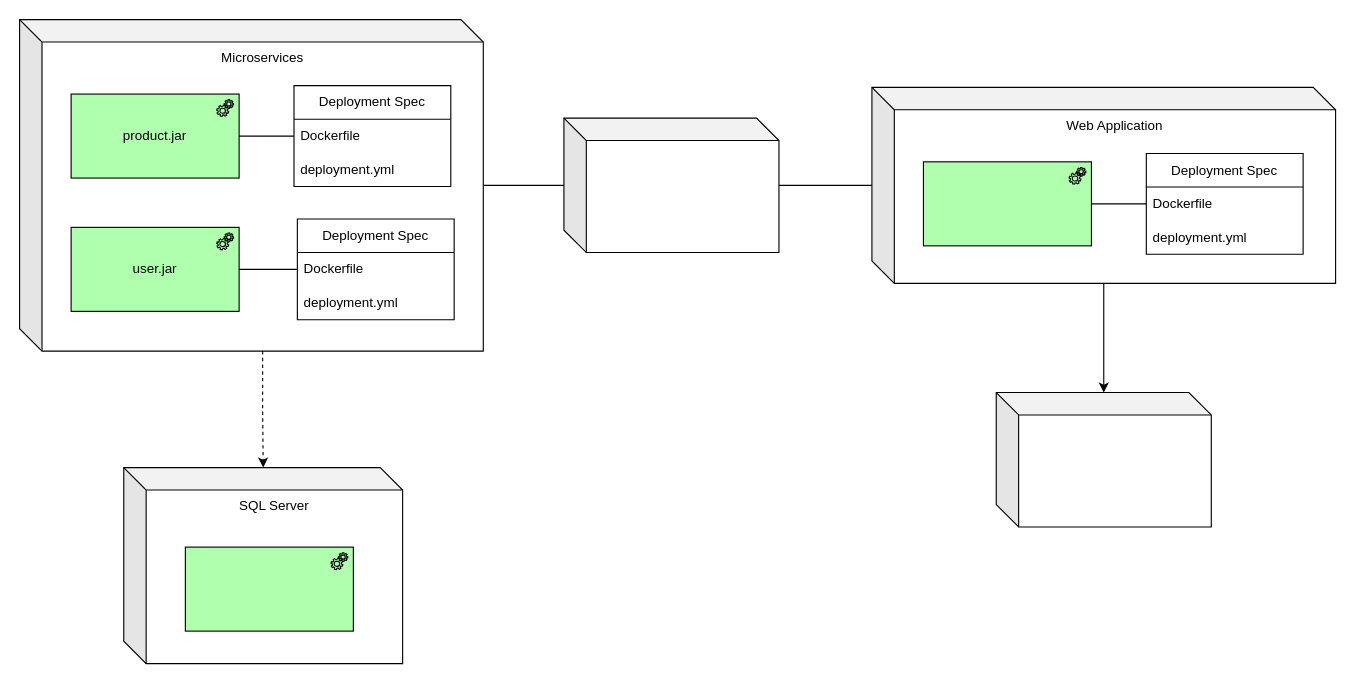
The diagram is 1355 pixels wide and 683 high, and some of its shapes have lost their labels. The shapes that lost their labels are listed below. From the top down, each one's centre as x and y in pixels, then its label:
point 671,185: Docker Registry ECR
point 1006,203: UI
point 1103,459: S3 Buket
point 268,588: Schema.sql
